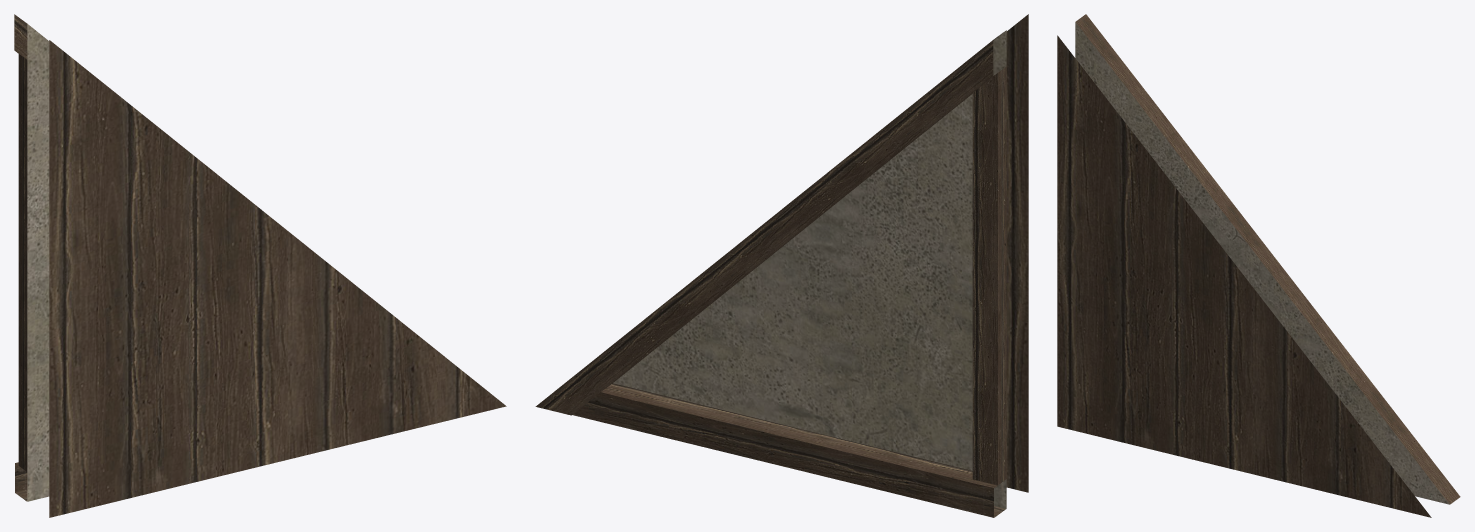
File: ARC1010252.fbx
The picture shows the model from 3 angles, left to right: view 1: azimuth 30°, elevation 25°; view 2: azimuth 150°, elevation 25°; view 3: azimuth 330°, elevation 25°; orthographic projection. The views are drawn at different scales.
Parts seen in each view (by area): view 1: smARC1010252; view 2: smARC1010252; view 3: smARC1010252.
Boxes of the visible parts, x1,y1,x2,y2 form: smARC1010252: [14, 14, 506, 517]; smARC1010252: [535, 14, 1028, 517]; smARC1010252: [1057, 14, 1460, 517].
Bounding box in the file's own units: 268 × 268 × 35.62.
Materials: 1 (1 with a texture image).
